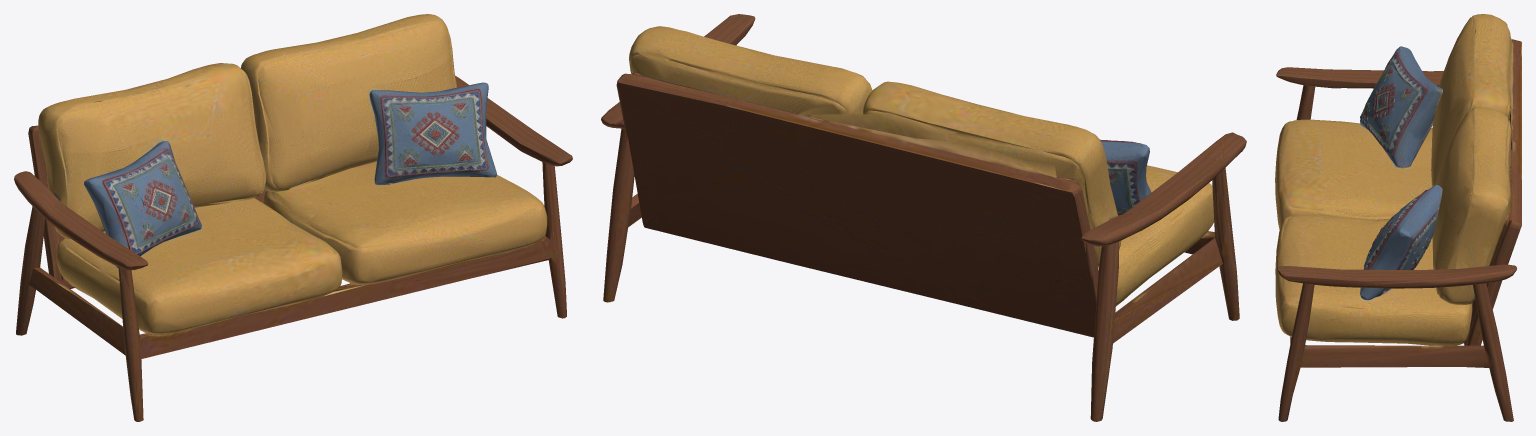
The model's file is sofa.glb.
3 views of the same model, side by side, from view 1: azimuth 30°, elevation 25°; view 2: azimuth 150°, elevation 25°; view 3: azimuth 270°, elevation 25° (orthographic). The views are drawn at different scales.
Size of the model in its own units: 1.9 by 0.9352 by 0.941.
Materials: 1 (1 with a texture image).
